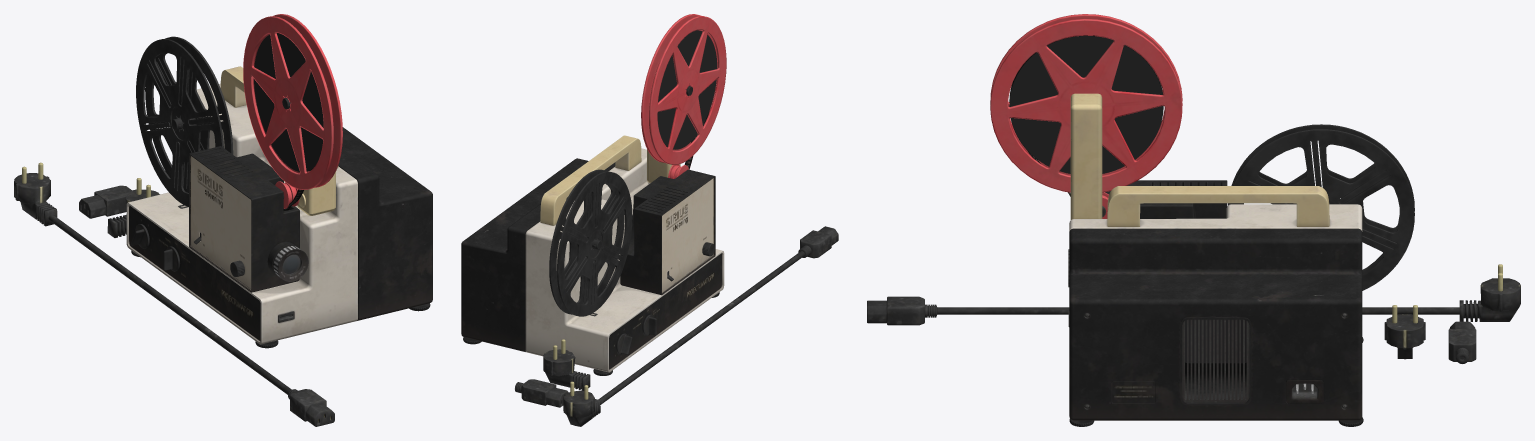
The model's file is filmstrip_projector_8mm.glb.
3 views of the same model, side by side, from view 1: azimuth 30°, elevation 25°; view 2: azimuth 150°, elevation 25°; view 3: azimuth 270°, elevation 25° (orthographic). The views are drawn at different scales.
Parts seen in each view (by area): view 1: filmstrip_projector_8mm, filmstrip_projector_8mm_spool_feed, filmstrip_projector_8mm_spool_takeup, filmstrip_projector_8mm_cable, filmstrip_projector_8mm_01_film_side, filmstrip_projector_8mm_connector, filmstrip_projector_8mm_spool_arm, filmstrip_projector_8mm_schuko; view 2: filmstrip_projector_8mm, filmstrip_projector_8mm_spool_takeup, filmstrip_projector_8mm_spool_feed, filmstrip_projector_8mm_cable, filmstrip_projector_8mm_01_film_side, filmstrip_projector_8mm_schuko, filmstrip_projector_8mm_connector, filmstrip_projector_8mm_spool_arm; view 3: filmstrip_projector_8mm, filmstrip_projector_8mm_spool_feed, filmstrip_projector_8mm_spool_takeup, filmstrip_projector_8mm_01_film_side, filmstrip_projector_8mm_cable, filmstrip_projector_8mm_spool_arm, filmstrip_projector_8mm_schuko, filmstrip_projector_8mm_connector.
Part boxes in pixels (x1,y1,x2,y2): filmstrip_projector_8mm: [126, 66, 432, 348]; filmstrip_projector_8mm_spool_feed: [243, 14, 342, 189]; filmstrip_projector_8mm_spool_takeup: [136, 36, 233, 206]; filmstrip_projector_8mm_cable: [14, 162, 334, 426]; filmstrip_projector_8mm_01_film_side: [254, 33, 323, 171]; filmstrip_projector_8mm_connector: [79, 185, 136, 218]; filmstrip_projector_8mm_spool_arm: [297, 88, 335, 215]; filmstrip_projector_8mm_schuko: [107, 178, 159, 237]; filmstrip_projector_8mm: [461, 135, 724, 375]; filmstrip_projector_8mm_spool_takeup: [549, 169, 632, 316]; filmstrip_projector_8mm_spool_feed: [641, 14, 726, 164]; filmstrip_projector_8mm_cable: [563, 226, 838, 426]; filmstrip_projector_8mm_01_film_side: [657, 30, 717, 149]; filmstrip_projector_8mm_schuko: [543, 339, 590, 390]; filmstrip_projector_8mm_connector: [515, 379, 568, 407]; filmstrip_projector_8mm_spool_arm: [647, 149, 680, 182]; filmstrip_projector_8mm: [1068, 180, 1363, 426]; filmstrip_projector_8mm_spool_feed: [990, 14, 1182, 192]; filmstrip_projector_8mm_spool_takeup: [1228, 124, 1414, 290]; filmstrip_projector_8mm_01_film_side: [1009, 36, 1163, 173]; filmstrip_projector_8mm_cable: [867, 264, 1520, 325]; filmstrip_projector_8mm_spool_arm: [1070, 93, 1102, 219]; filmstrip_projector_8mm_schuko: [1384, 305, 1425, 359]; filmstrip_projector_8mm_connector: [1448, 321, 1476, 363].
Bounding box in the file's own units: 0.2537 × 0.3454 × 0.6026.
Materials: 2 (2 with a texture image).
